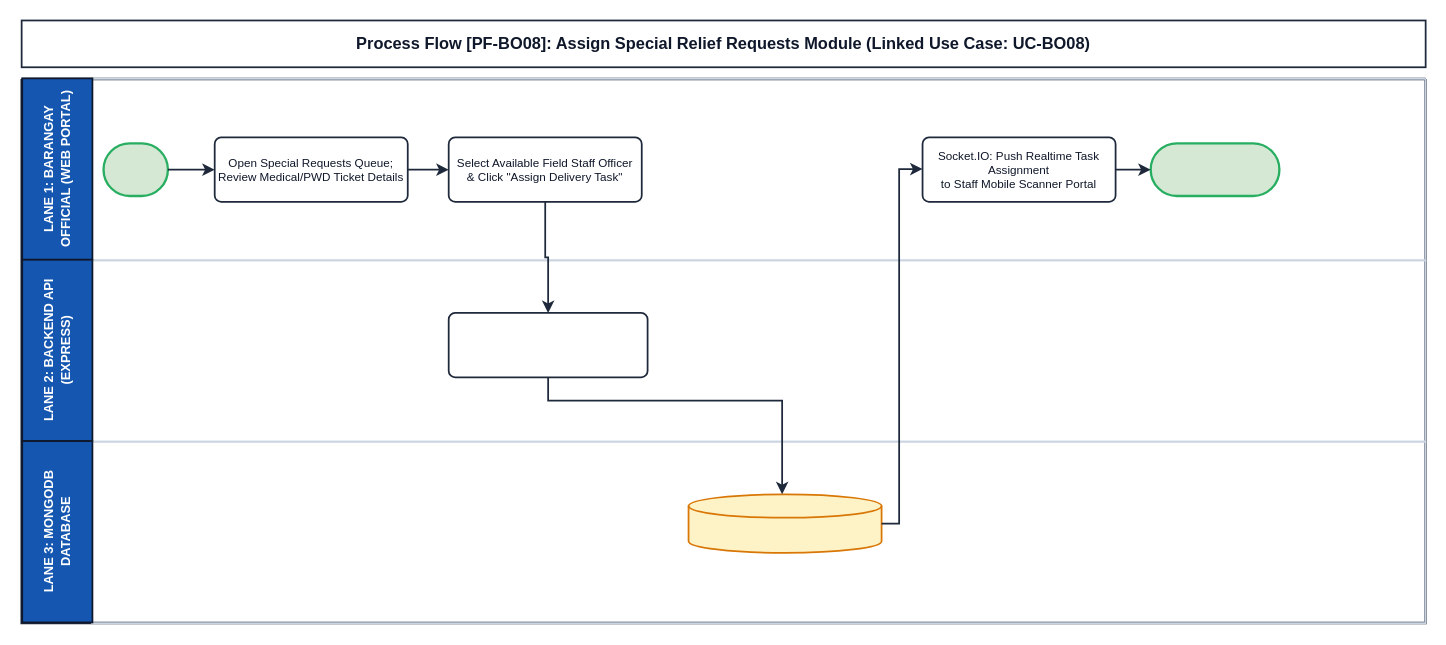
This 1446x645 diagram has some shape labels left out. The centre of each missing label's shape, as x and y in pixels:
END (Dispatched): (x=1214, y=169)
MongoDB: Update Status = "assigned" & Record Staff Dispatch Reference: (x=784, y=523)
PATCH /api/assistance-requests/:id/assign { staffId }: (x=547, y=345)
START: (x=135, y=169)
